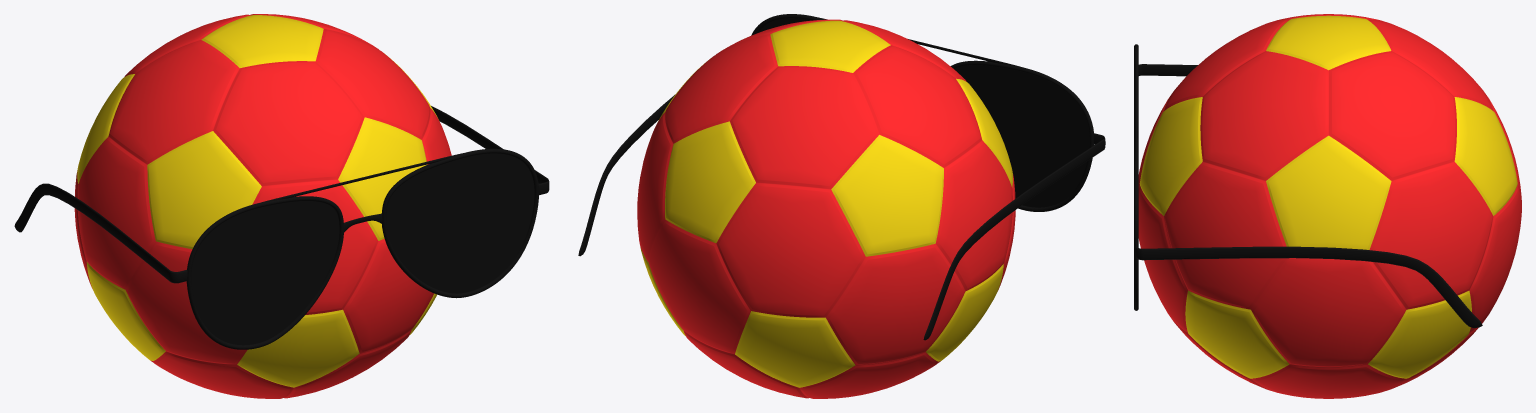
The model's file is Balonesp.glb.
3 renders of one model, left to right at view 1: azimuth 30°, elevation 25°; view 2: azimuth 150°, elevation 25°; view 3: azimuth 270°, elevation 25°, orthographic.
Visible parts, largest first — view 1: Esfera geodésica, Círculo Bezier, Círculo Bezier.001, Cubo.002, Cubo.003, Cubo.001; view 2: Esfera geodésica, Círculo Bezier, Cubo.002, Cubo.003, Círculo Bezier.001; view 3: Esfera geodésica, Cubo.003, Círculo Bezier.001, Cubo.002, Círculo Bezier.
Boxes of the visible parts, left/top/right/bottom form: Esfera geodésica: left=74, top=14, right=451, bottom=398; Círculo Bezier: left=186, top=196, right=343, bottom=349; Círculo Bezier.001: left=381, top=148, right=538, bottom=298; Cubo.002: left=14, top=183, right=187, bottom=283; Cubo.003: left=431, top=106, right=549, bottom=195; Cubo.001: left=252, top=151, right=473, bottom=205; Esfera geodésica: left=637, top=19, right=1015, bottom=398; Círculo Bezier: left=950, top=60, right=1094, bottom=211; Cubo.002: left=923, top=133, right=1105, bottom=340; Cubo.003: left=578, top=95, right=674, bottom=256; Círculo Bezier.001: left=751, top=14, right=823, bottom=35; Esfera geodésica: left=1138, top=14, right=1521, bottom=398; Cubo.003: left=1135, top=243, right=1482, bottom=327; Círculo Bezier.001: left=1134, top=137, right=1138, bottom=310; Cubo.002: left=1138, top=64, right=1197, bottom=76; Círculo Bezier: left=1134, top=44, right=1138, bottom=138.
Bounding box in the file's own units: 2 × 1.75 × 1.76.
